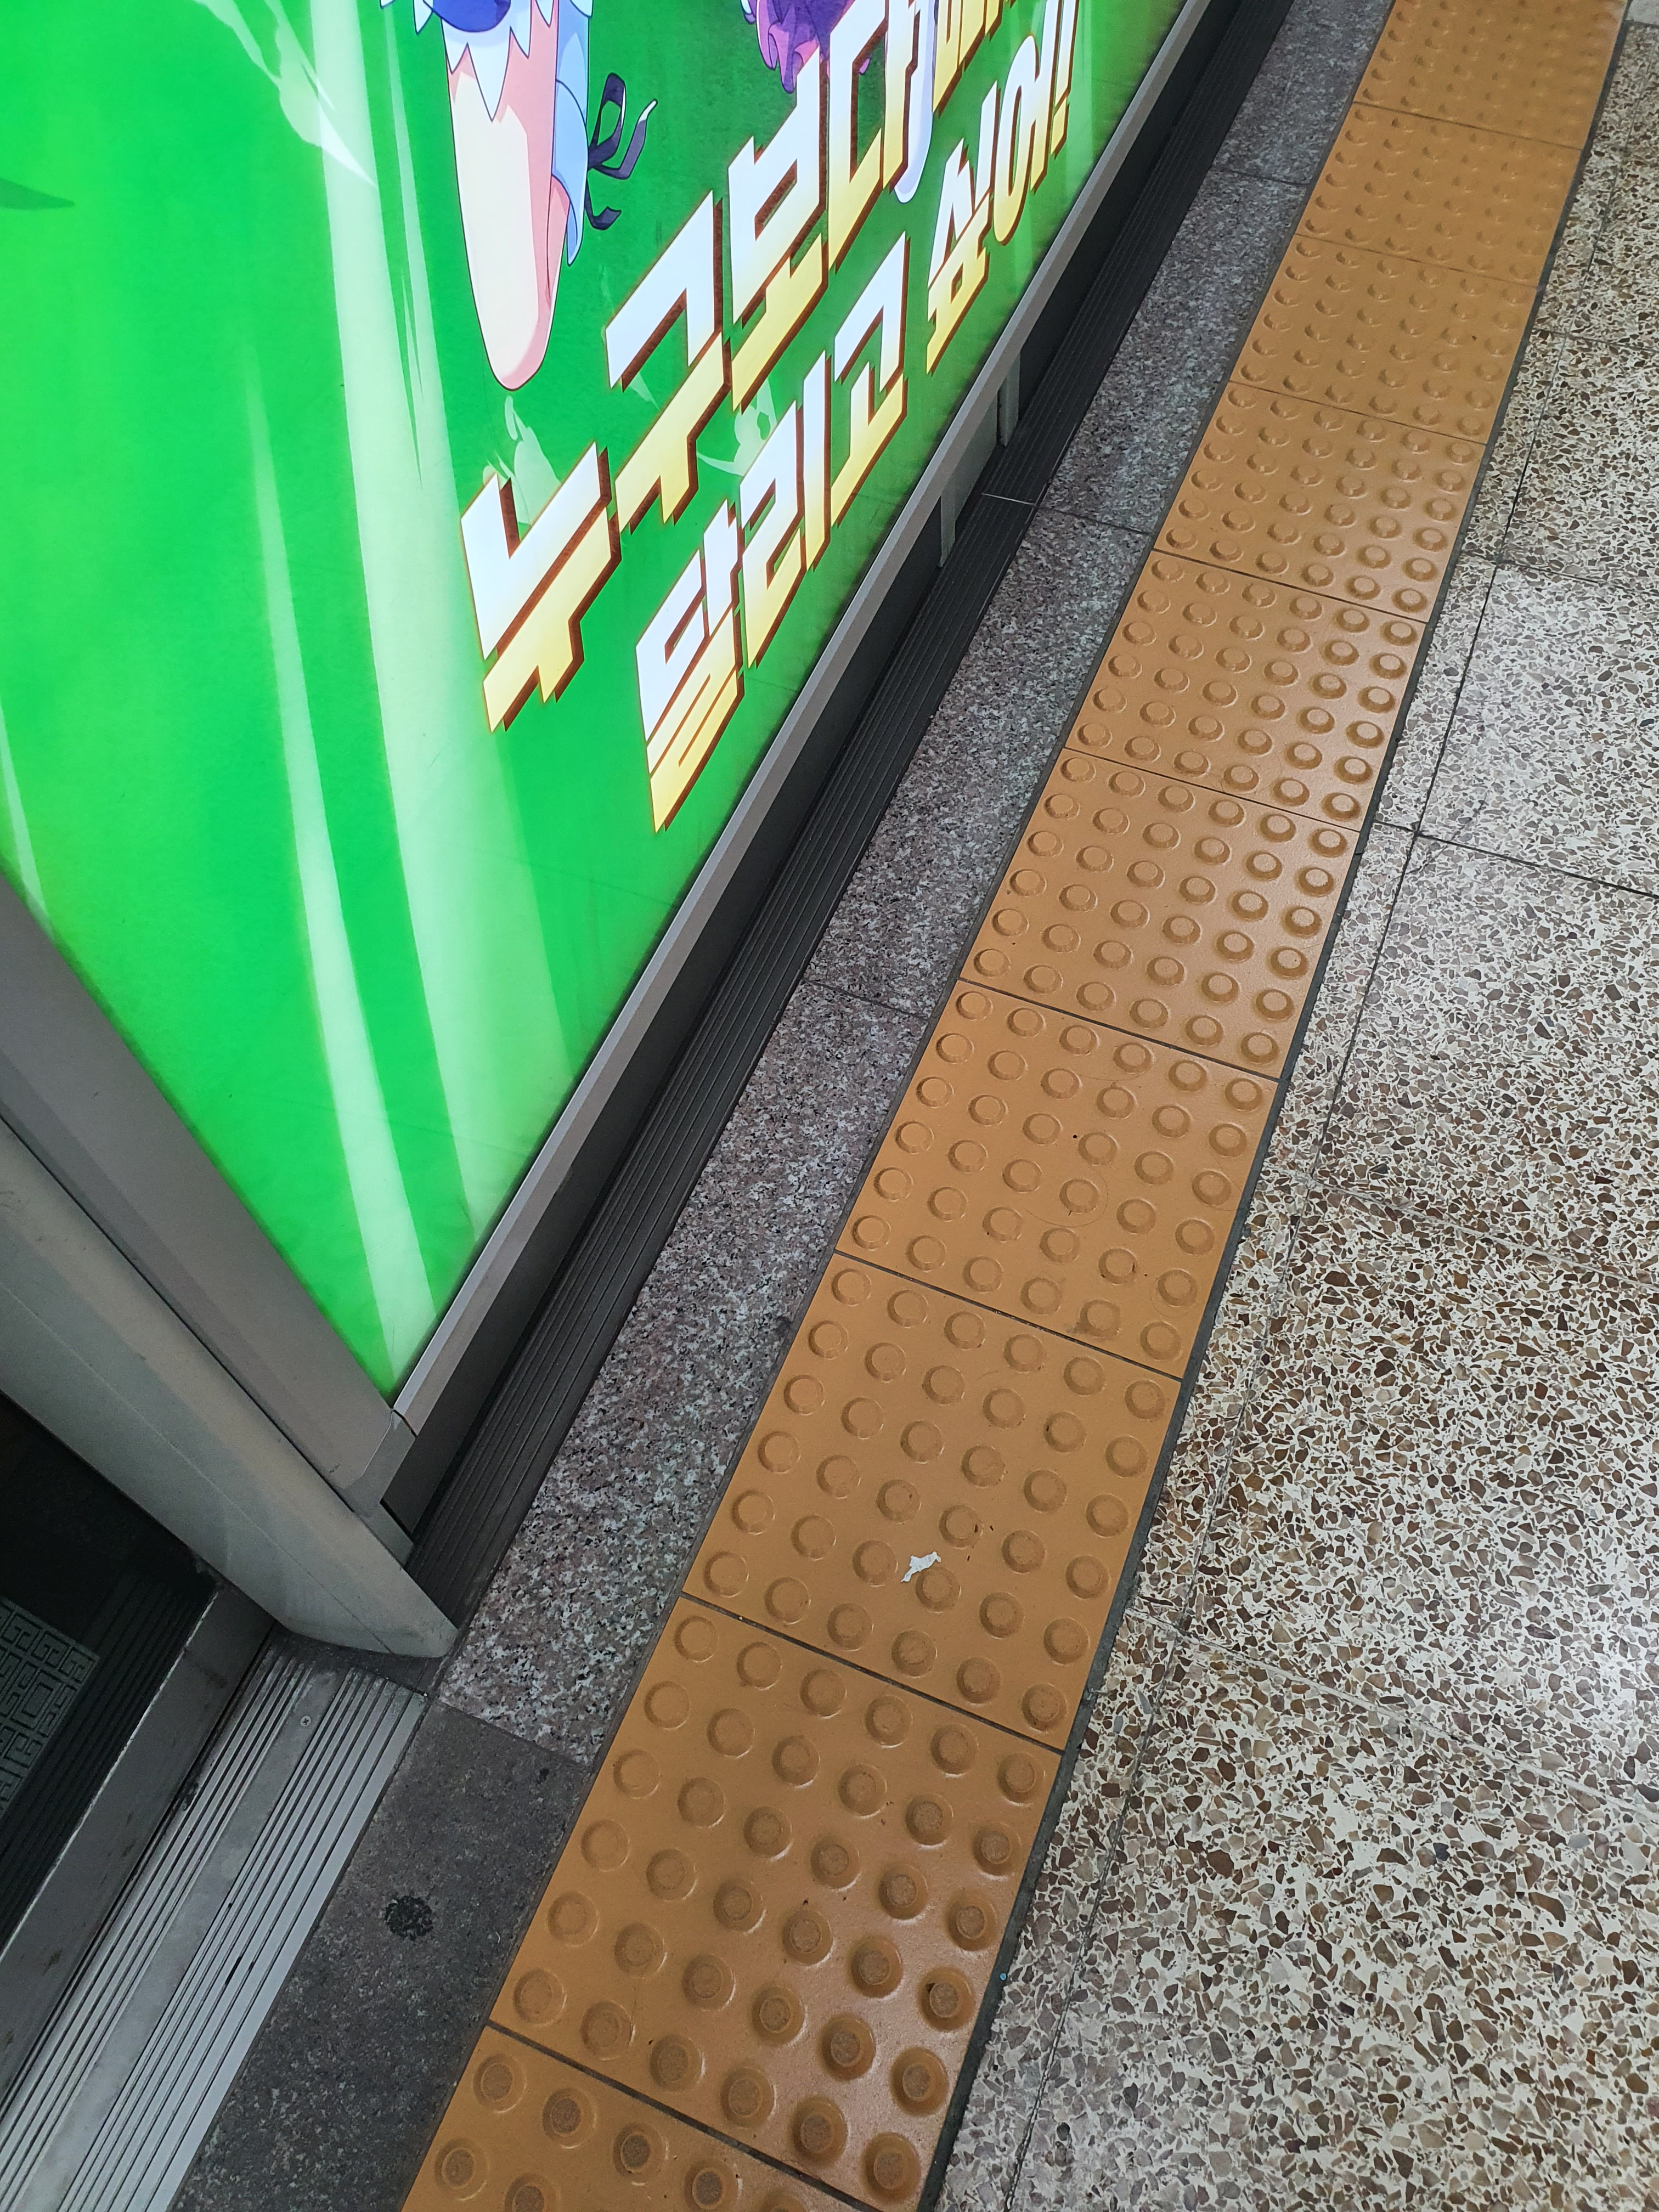warningBlock: (622, 1656, 985, 2179), (803, 1263, 1141, 1719), (939, 1003, 1243, 1379), (1053, 784, 1352, 1080), (1136, 557, 1382, 829), (1216, 378, 1499, 596), (1297, 230, 1567, 442), (1342, 124, 1574, 275), (1385, 3, 1631, 117)
